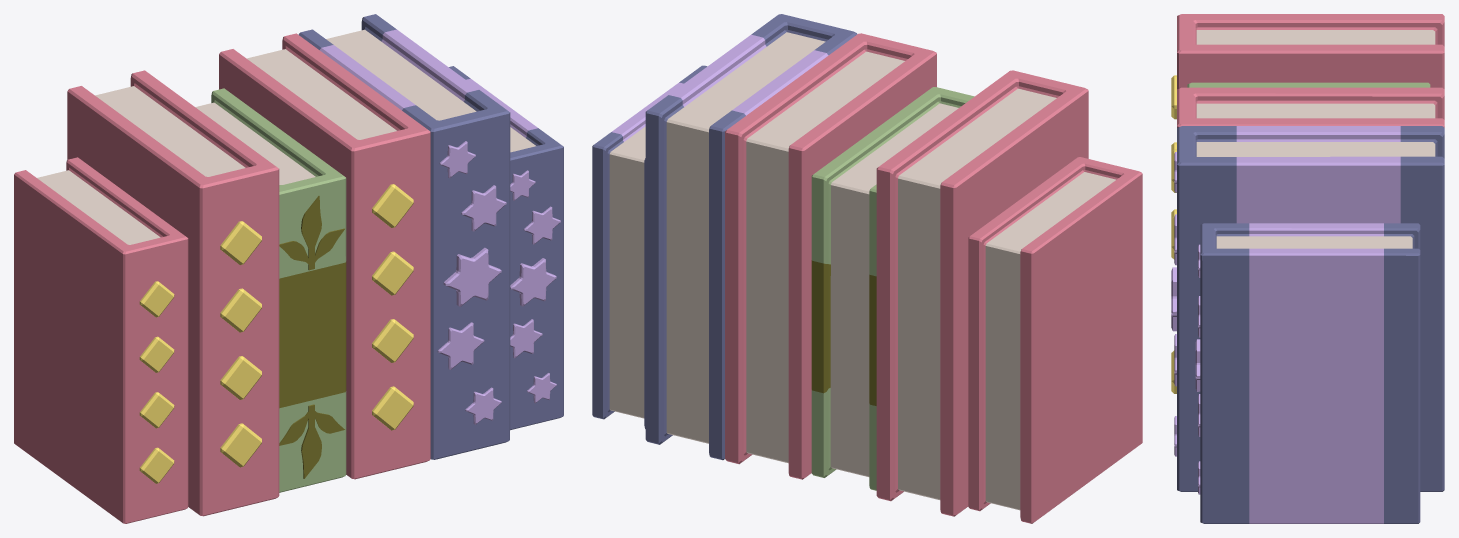
File: Books_17.glb
The picture shows the model from 3 angles, left to right: view 1: azimuth 30°, elevation 25°; view 2: azimuth 150°, elevation 25°; view 3: azimuth 270°, elevation 25°; orthographic projection.
Parts seen in each view (by area): view 1: Books_17; view 2: Books_17; view 3: Books_17.
Boxes of the visible parts, box(x1,y1,x2,y2) form: Books_17: box(14, 14, 563, 523); Books_17: box(592, 14, 1142, 523); Books_17: box(1171, 14, 1444, 523).
Size of the model in its own units: 0.5473 by 0.3928 by 0.2954.
1 material, 1 textured.
